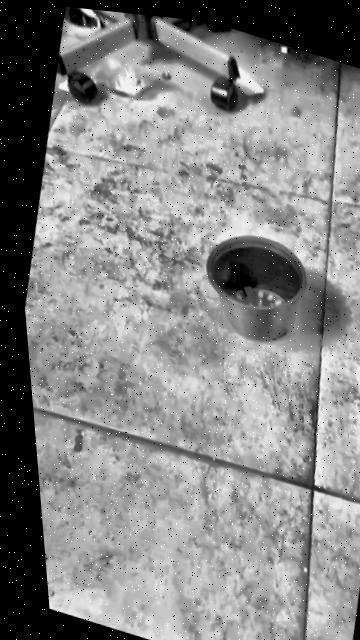pot: (190, 219, 317, 354)
